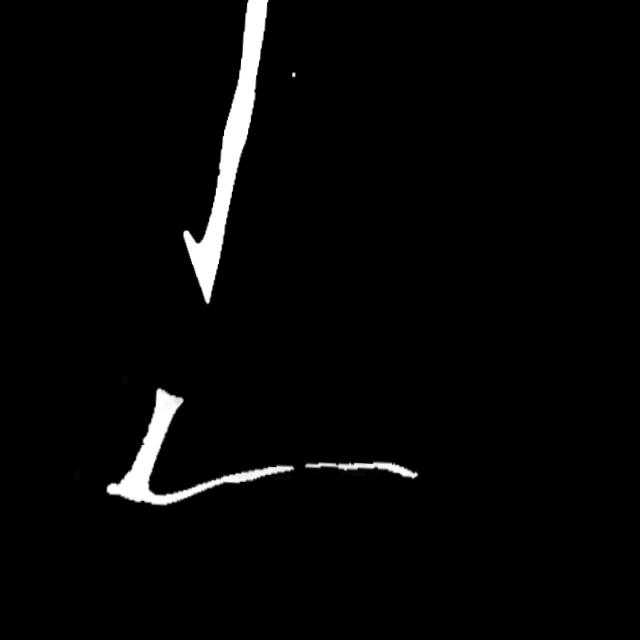sup: (282, 457, 310, 478)
